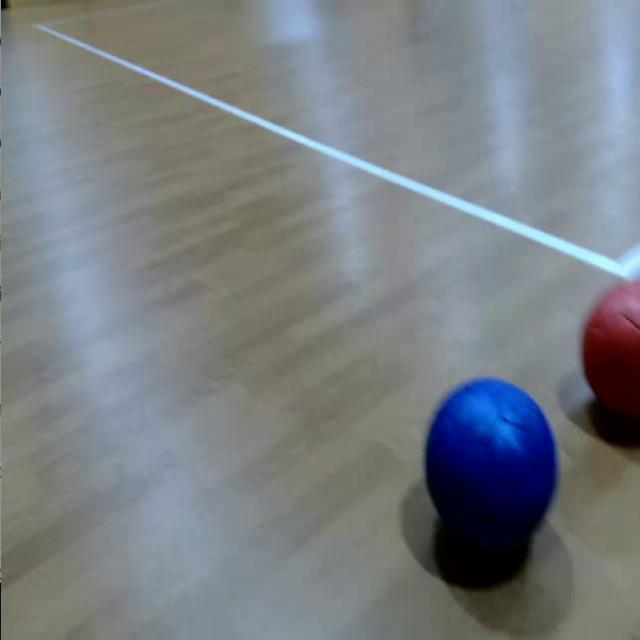blue_ball: (423, 377, 558, 549)
red_ball: (581, 280, 640, 419)
